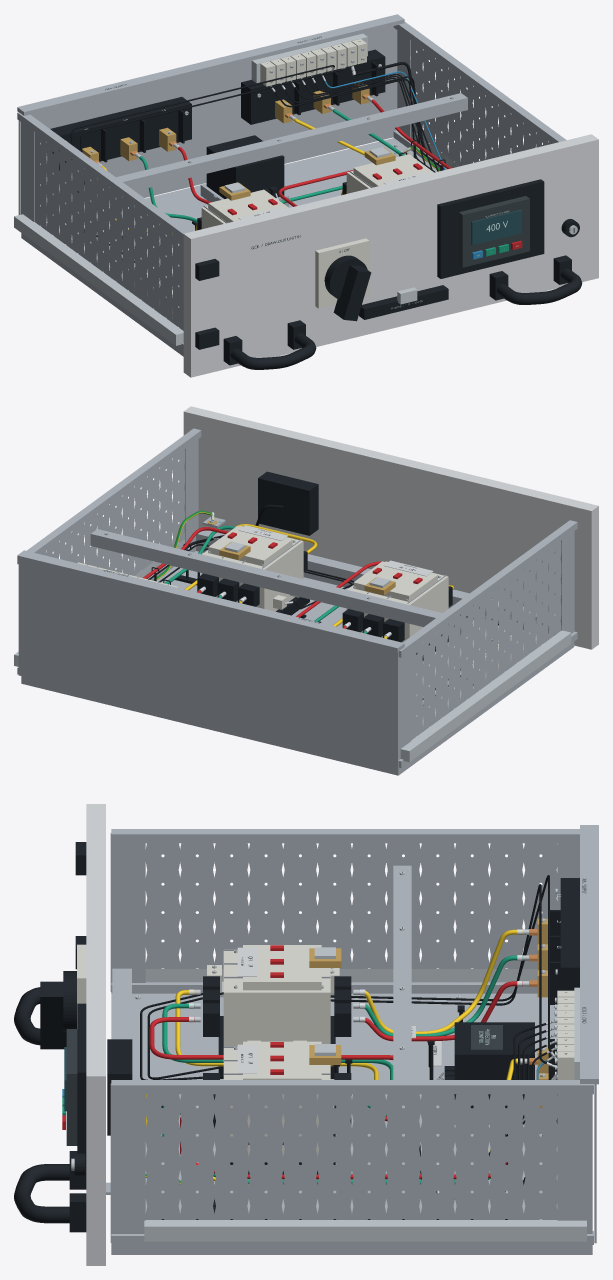
Rendered from kaiguan.glb.
3 renders of one model, top to bottom at view 1: azimuth 30°, elevation 25°; view 2: azimuth 150°, elevation 25°; view 3: azimuth 270°, elevation 25°, orthographic. The views are drawn at different scales.
Visible parts, largest first — view 1: GCK01_Front_Fascia, GCK01_Rear_Panel, GCK01_L_Punched_Side, GCK01_R_Punched_Side, GCK01_Cross_Brace, GCK01_Tray_Base, GCK01_Rear_Top_Fold, GCK01_Meter_Recess, GCK01_XIN_Base, GCK01_L_Drawer_Runner, GCK01_XOUT_Base, GCK01_Meter_Bezel (+17 smaller); view 2: GCK01_Rear_Panel, GCK01_Front_Fascia, GCK01_L_Punched_Side, GCK01_R_Punched_Side, GCK01_Cross_Brace, GCK01_Tray_Base, GCK01_Rear_Top_Fold, GCK01_L_Drawer_Runner, GCK01_Meter_Rear_Housing, GCK01_L_Side_Fold.001, GCK01_R_Side_Fold.001, GCK01_Front_Inner_Fold (+7 smaller); view 3: GCK01_R_Punched_Side, GCK01_L_Punched_Side, GCK01_Tray_Base, GCK01_R_Drawer_Runner, GCK01_Front_Fascia, GCK01_R_Side_Fold.001, GCK01_L_Side_Fold.001, GCK01_QF1_Housing, GCK01_R_Side_End, GCK01_Rear_Top_Fold, GCK01_L_Side_End, GCK01_R_Side_End.001 (+30 smaller).
Part boxes in pixels (x1,y1,x2,y2): GCK01_Front_Fascia: (183,134,598,377); GCK01_Rear_Panel: (18,26,397,221); GCK01_L_Punched_Side: (34,132,183,330); GCK01_R_Punched_Side: (410,40,551,168); GCK01_Cross_Brace: (96,93,467,199); GCK01_Tray_Base: (21,138,437,356); GCK01_Rear_Top_Fold: (17,14,404,115); GCK01_Meter_Recess: (437,179,544,278); GCK01_XIN_Base: (50,97,191,171); GCK01_L_Drawer_Runner: (14,214,183,345); GCK01_XOUT_Base: (241,49,385,124); GCK01_Meter_Bezel: (458,196,529,267); GCK01_Rear_Panel: (18,560,398,767); GCK01_Front_Fascia: (183,406,598,649); GCK01_L_Punched_Side: (411,541,561,739); GCK01_R_Punched_Side: (41,449,184,576); GCK01_Cross_Brace: (90,529,461,635); GCK01_Tray_Base: (21,551,574,775); GCK01_Rear_Top_Fold: (17,550,404,652); GCK01_L_Drawer_Runner: (400,630,571,762); GCK01_Meter_Rear_Housing: (258,471,318,535); GCK01_L_Side_Fold.001: (398,520,577,657); GCK01_R_Side_Fold.001: (17,428,201,564); GCK01_Front_Inner_Fold: (196,530,555,635); GCK01_R_Punched_Side: (145,1094,557,1219); GCK01_L_Punched_Side: (145,843,557,981); GCK01_Tray_Base: (111,993,592,1254); GCK01_R_Drawer_Runner: (144,1220,586,1241); GCK01_Front_Fascia: (86,804,105,1265); GCK01_R_Side_Fold.001: (111,1080,593,1094); GCK01_L_Side_Fold.001: (111,829,579,843); GCK01_QF1_Housing: (223,951,330,1047); GCK01_R_Side_End: (110,1084,145,1242); GCK01_Rear_Top_Fold: (580,825,598,1084); GCK01_L_Side_End: (110,833,145,991); GCK01_R_Side_End.001: (557,1094,592,1233).
Size of what is drawn, in the model's own units: 0.844 by 0.274 by 0.7661.
